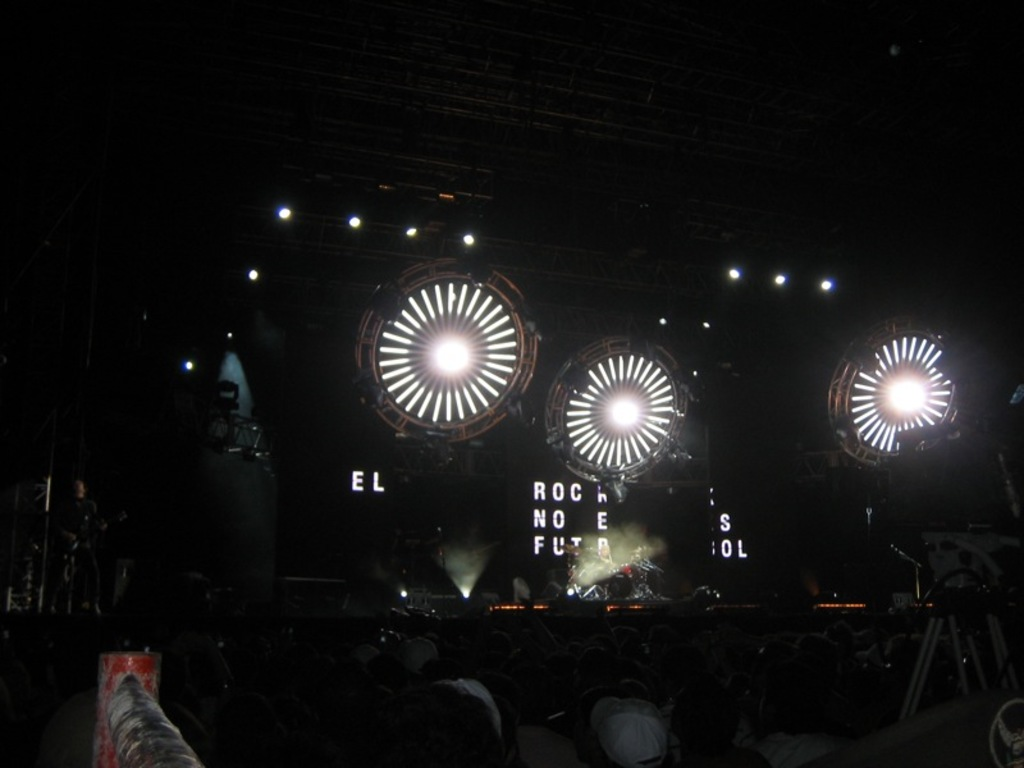Wheel: (832, 329, 946, 471)
